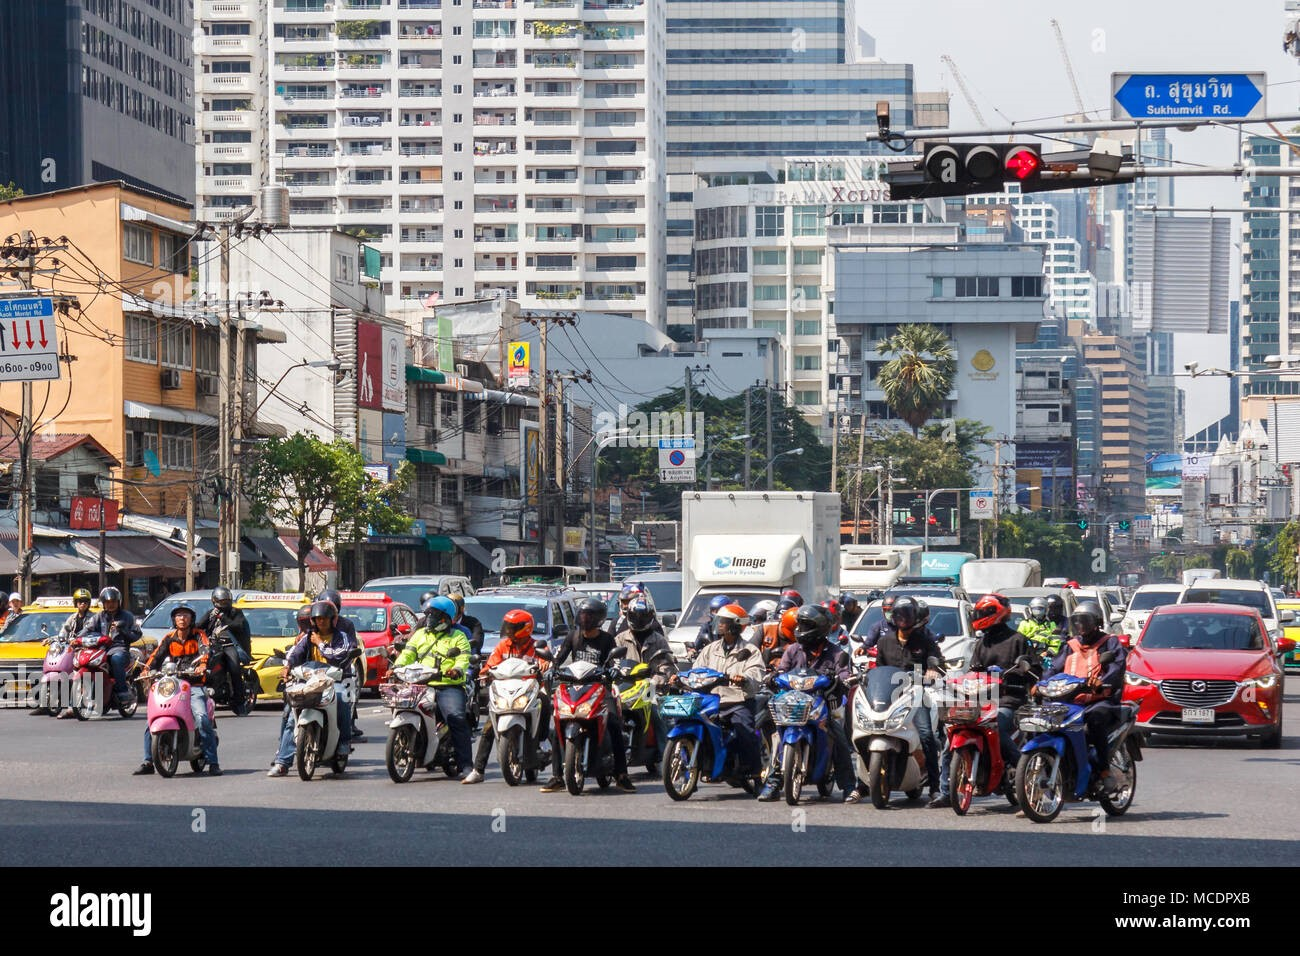LightVehicle: (1128, 598, 1287, 759)
MotorCycle: (1019, 677, 1144, 822), (854, 663, 931, 812), (547, 657, 618, 799), (772, 665, 836, 807), (665, 662, 729, 798), (485, 661, 542, 796), (279, 659, 337, 783), (384, 662, 437, 785), (138, 663, 197, 775)
